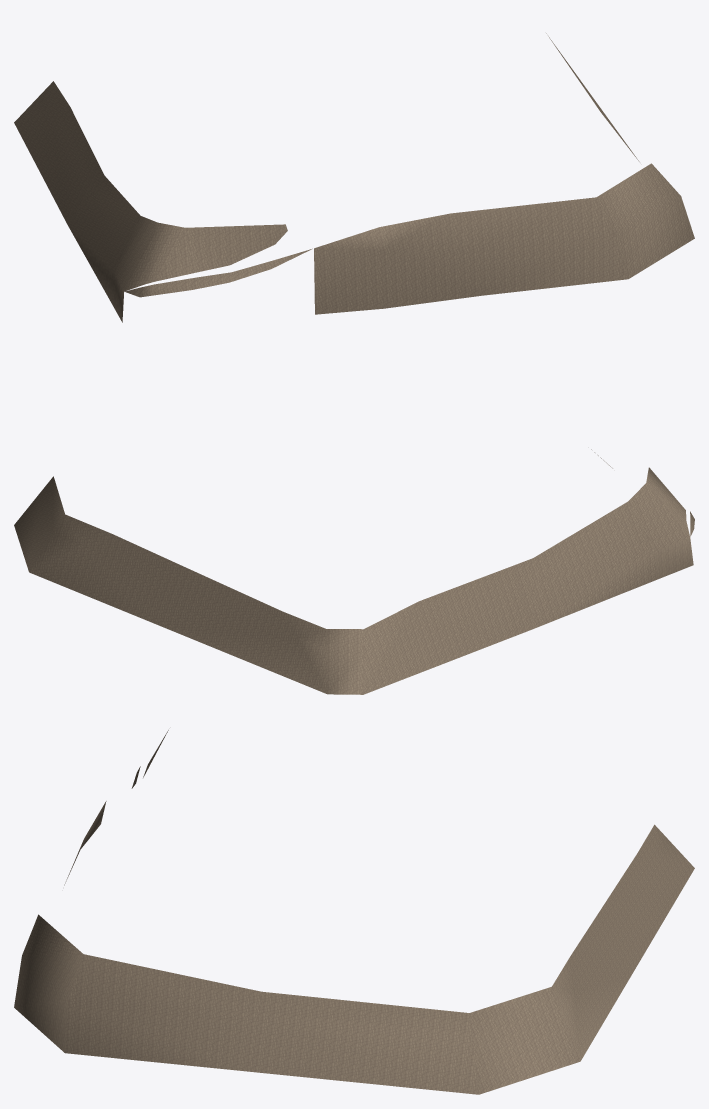
The model's file is kd_stage_136599_10_33.glb.
3 views of the same model, one above another, from view 1: azimuth 30°, elevation 25°; view 2: azimuth 150°, elevation 25°; view 3: azimuth 270°, elevation 25° (orthographic). The views are drawn at different scales.
Visible parts, largest first — view 1: kd_stage_136599_10_33; view 2: kd_stage_136599_10_33; view 3: kd_stage_136599_10_33.
Part boxes in pixels (<box>): kd_stage_136599_10_33: <box>14,33,694,322</box>; kd_stage_136599_10_33: <box>14,449,694,694</box>; kd_stage_136599_10_33: <box>14,730,694,1094</box>.
Size of the model in its own units: 382 by 53.45 by 360.
1 material, 1 textured.
